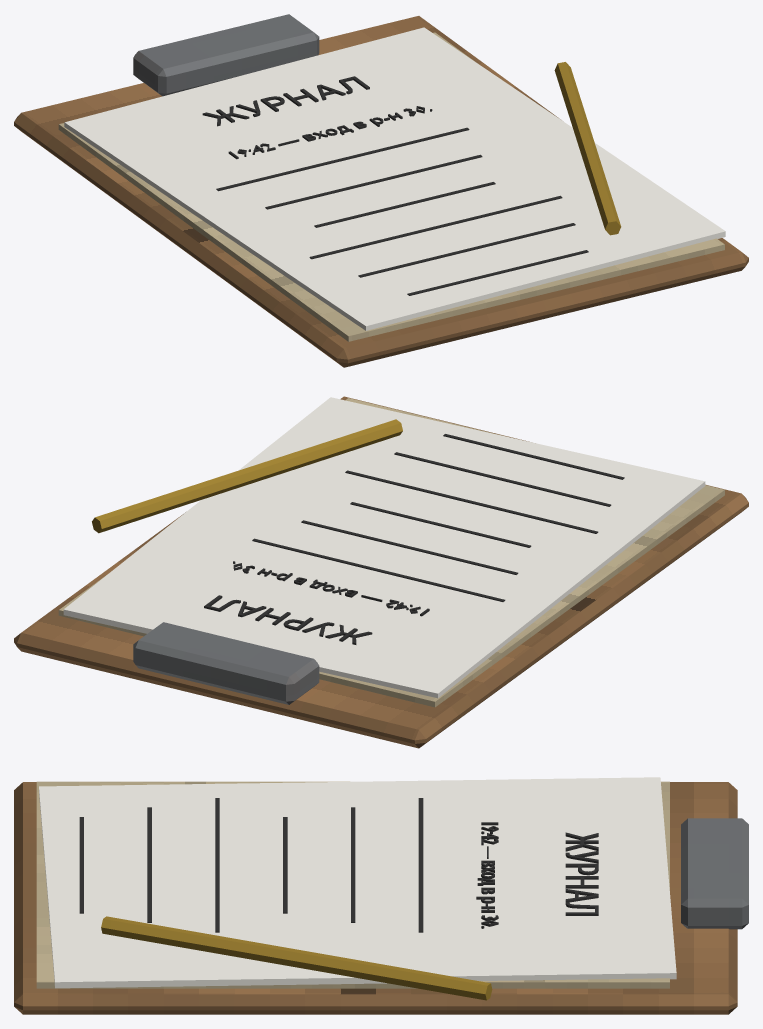
File: expedition_clipboard.glb
3 views of the same model, one above another, from view 1: azimuth 30°, elevation 25°; view 2: azimuth 150°, elevation 25°; view 3: azimuth 270°, elevation 25° (orthographic). The views are drawn at different scales.
Parts seen in each view (by area): view 1: expedition_clipboard; view 2: expedition_clipboard; view 3: expedition_clipboard.
Part boxes in pixels (left/top/right/bottom): expedition_clipboard: left=14, top=14, right=748, bottom=367; expedition_clipboard: left=14, top=396, right=748, bottom=748; expedition_clipboard: left=14, top=777, right=748, bottom=1014.
Bounding box in the file's own units: 0.2487 × 0.0245 × 0.325.
Materials: 6 (4 with a texture image).
